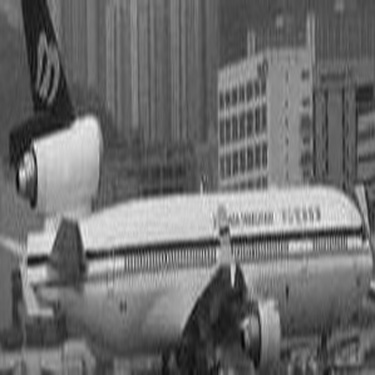airplane: (4, 3, 372, 372)
